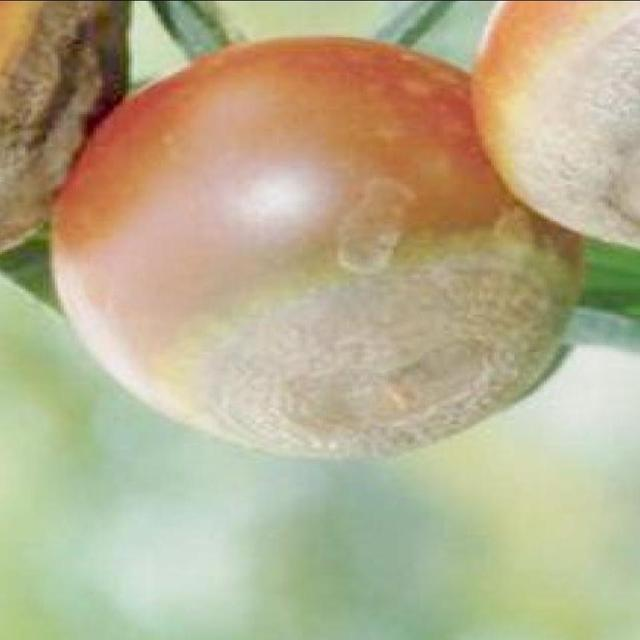Blossom End Rot Fruit: (42, 81, 382, 229)
